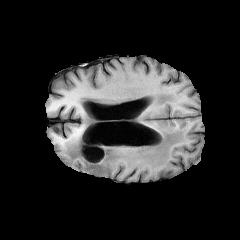glioma: (64, 92, 188, 172)
